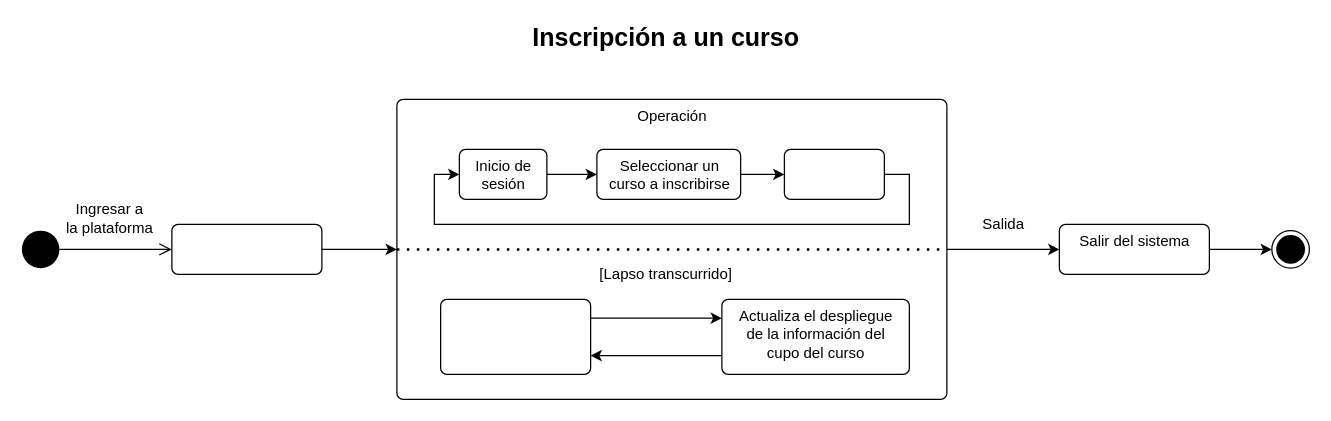
The diagram is 1331 pixels wide and 421 high, and some of its shapes have lost their labels. The shapes that lost their labels are listed below. From the top down, each one's centre as x and y in pixels, then its label:
the point at 833,173: Inscribirse al curso
the point at 246,248: Inicialización
the point at 515,336: Verifica si existe cupo para el curso
